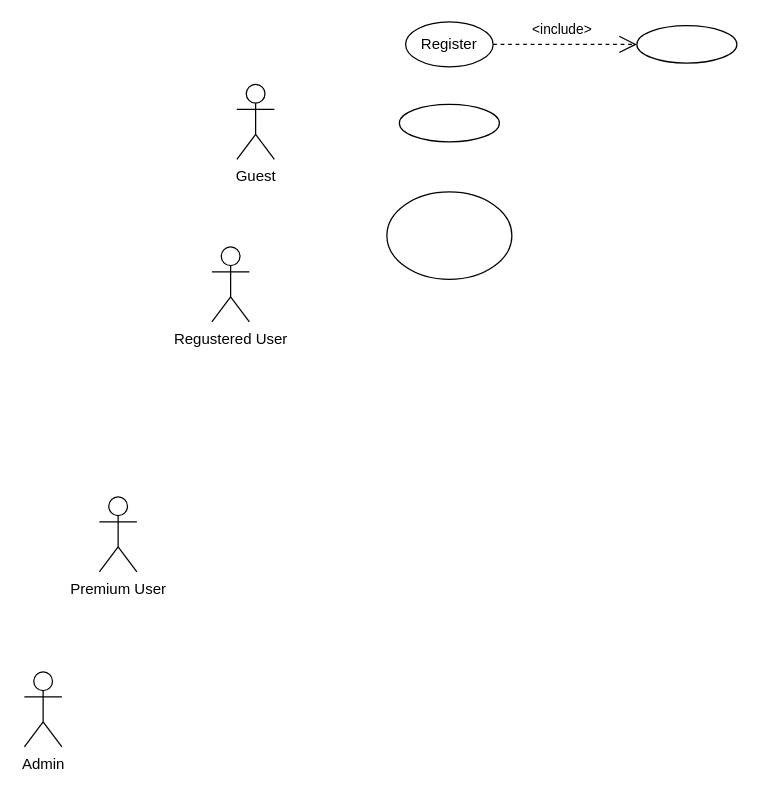
This 759x795 diagram has some shape labels left out. Here are the shapes that lost their labels. From the top down, the centre of each, then its label:
At [686,43]: "Verify Email".
At [448,122]: "Login".
At [449,235]: "Search Public Transcriptions".
